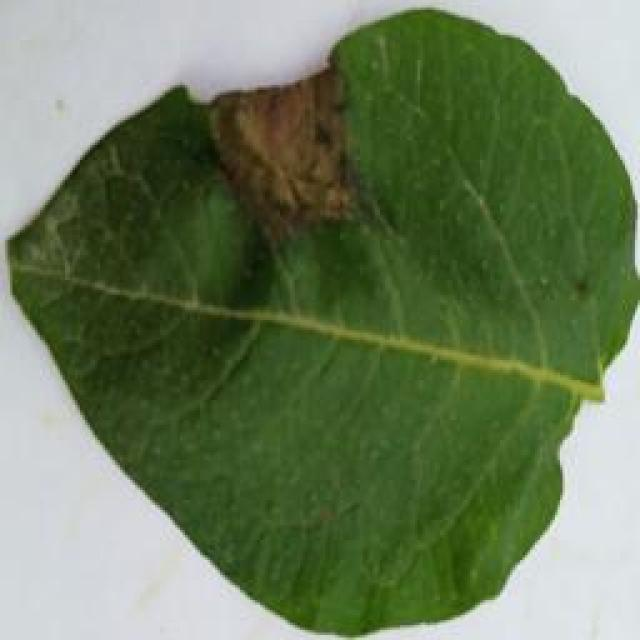Potato_Late_Blight: (7, 7, 640, 634)
